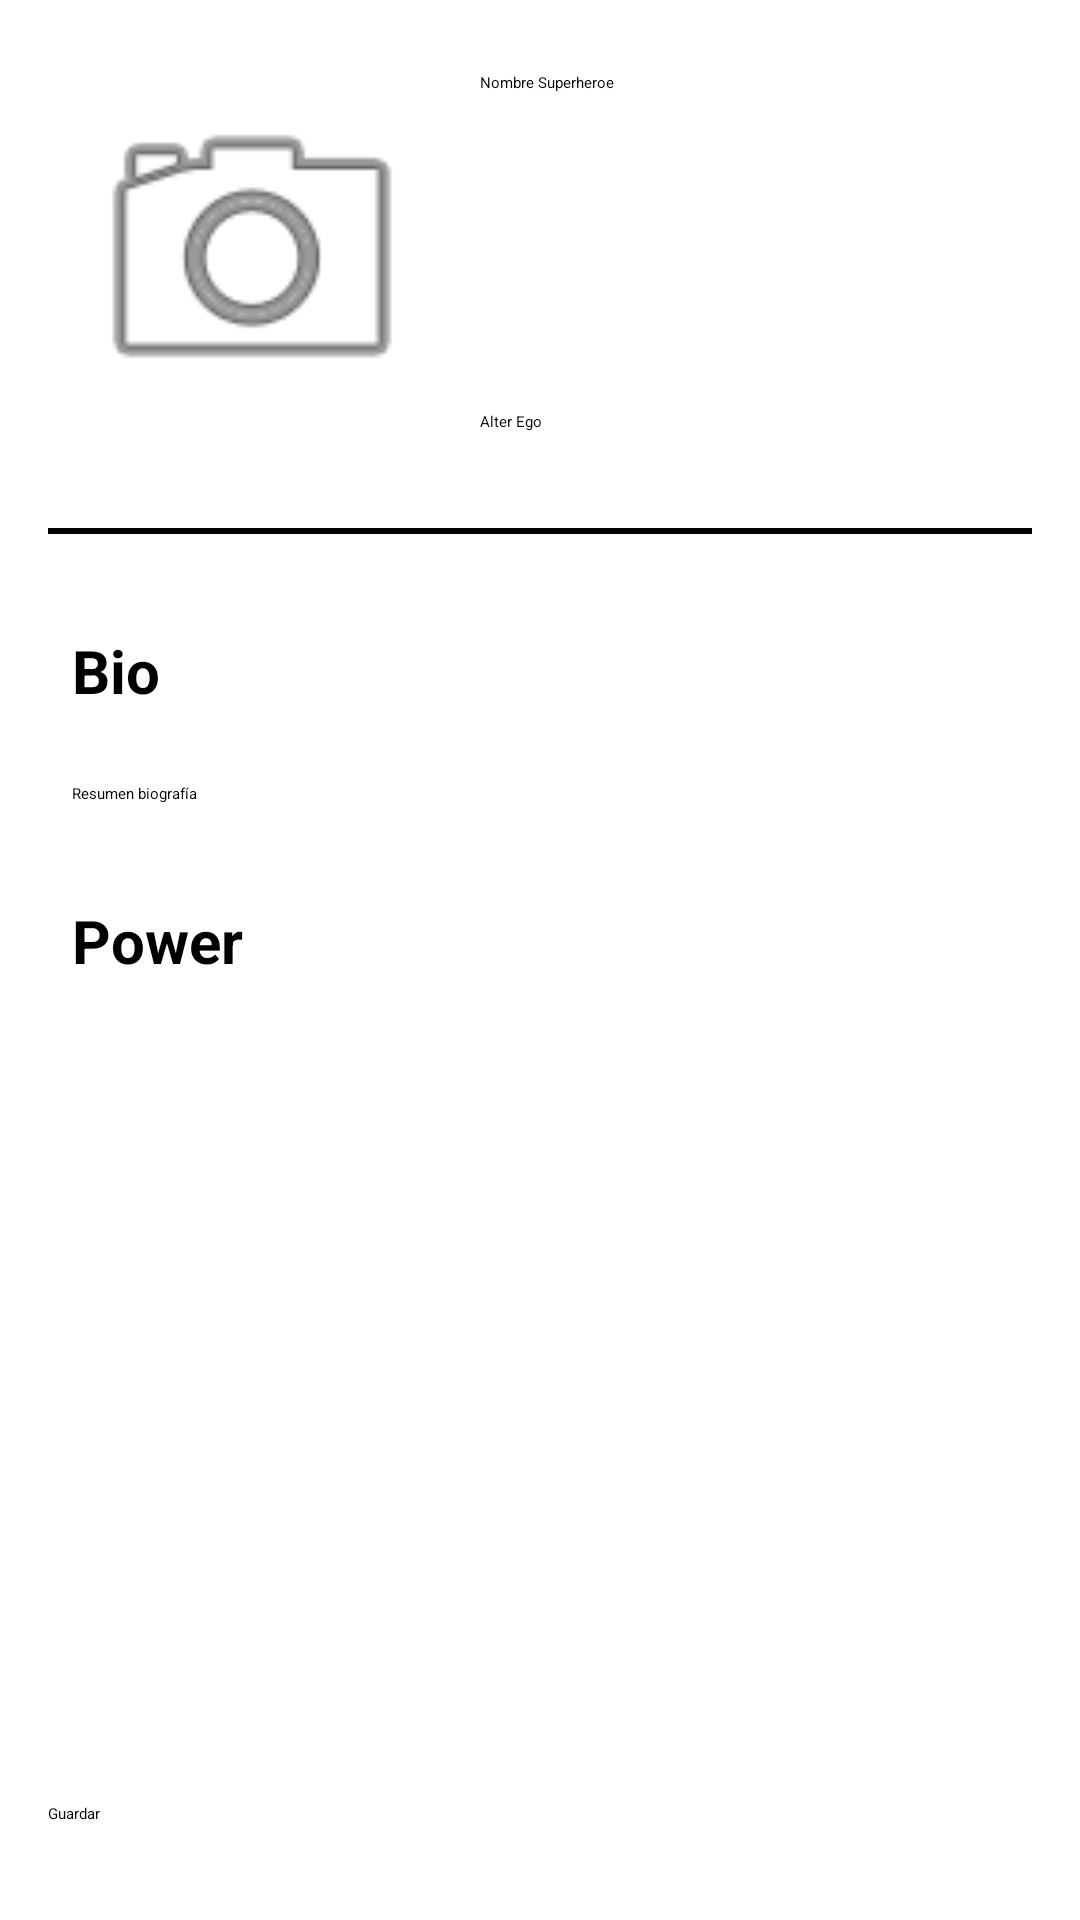

Named icons in this screenshot (1080*1920) and their bounding boxes, (x1,y1,x2,y2):
camera: (113,135,391,357)
